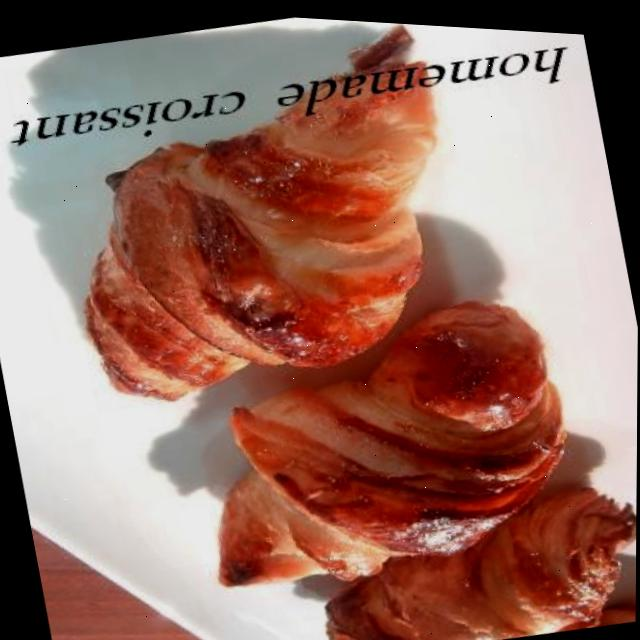面包点心: (0, 58, 640, 640)
